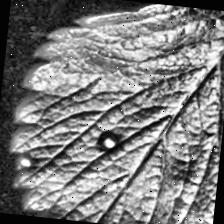Leaf Spot: (2, 0, 224, 224)
